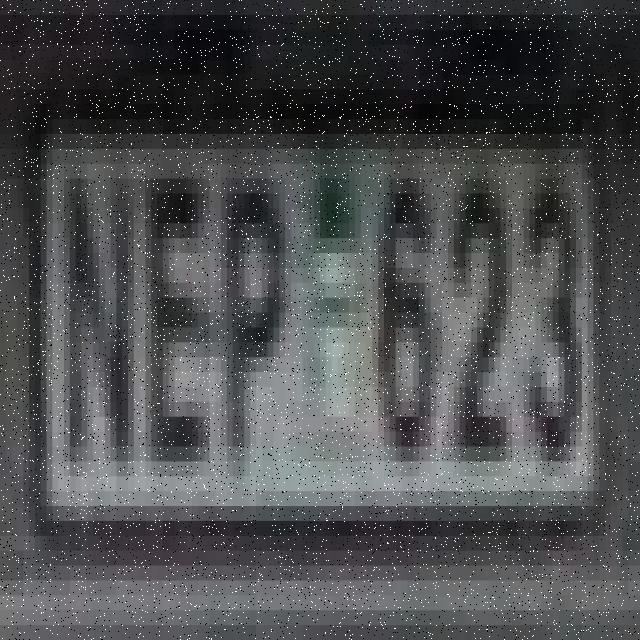licenseplate: (20, 76, 622, 573)
